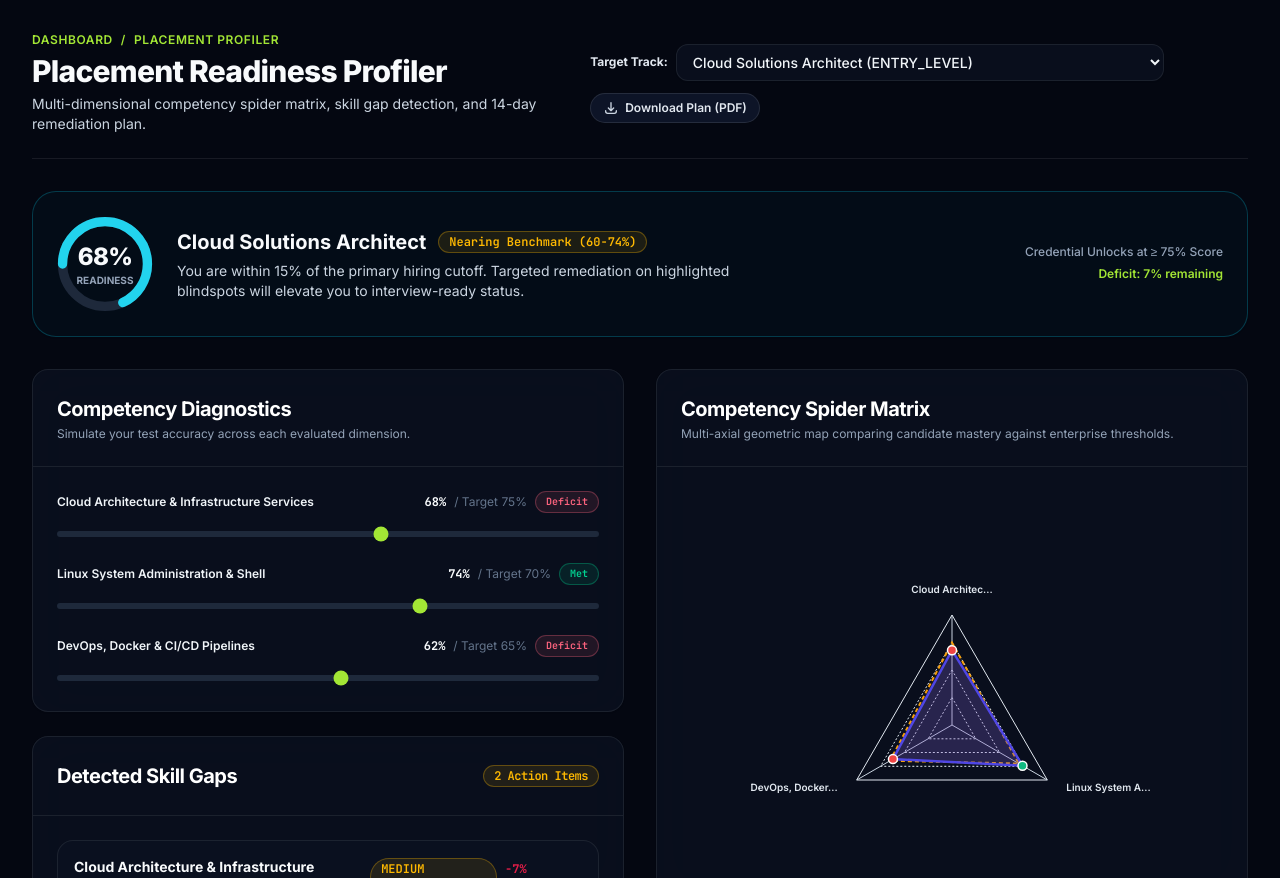
Test case: PlacementReadinessPage › allows adjusting competency slider and recalculating scores dynamically
expect the text "Reset Baseline" is not shown: met
# Change slider value to 95
Set the slider named "Accuracy slider for Cloud Architecture & Infrastructure Serv" to "95" at (558,534), box [57, 531, 599, 537]
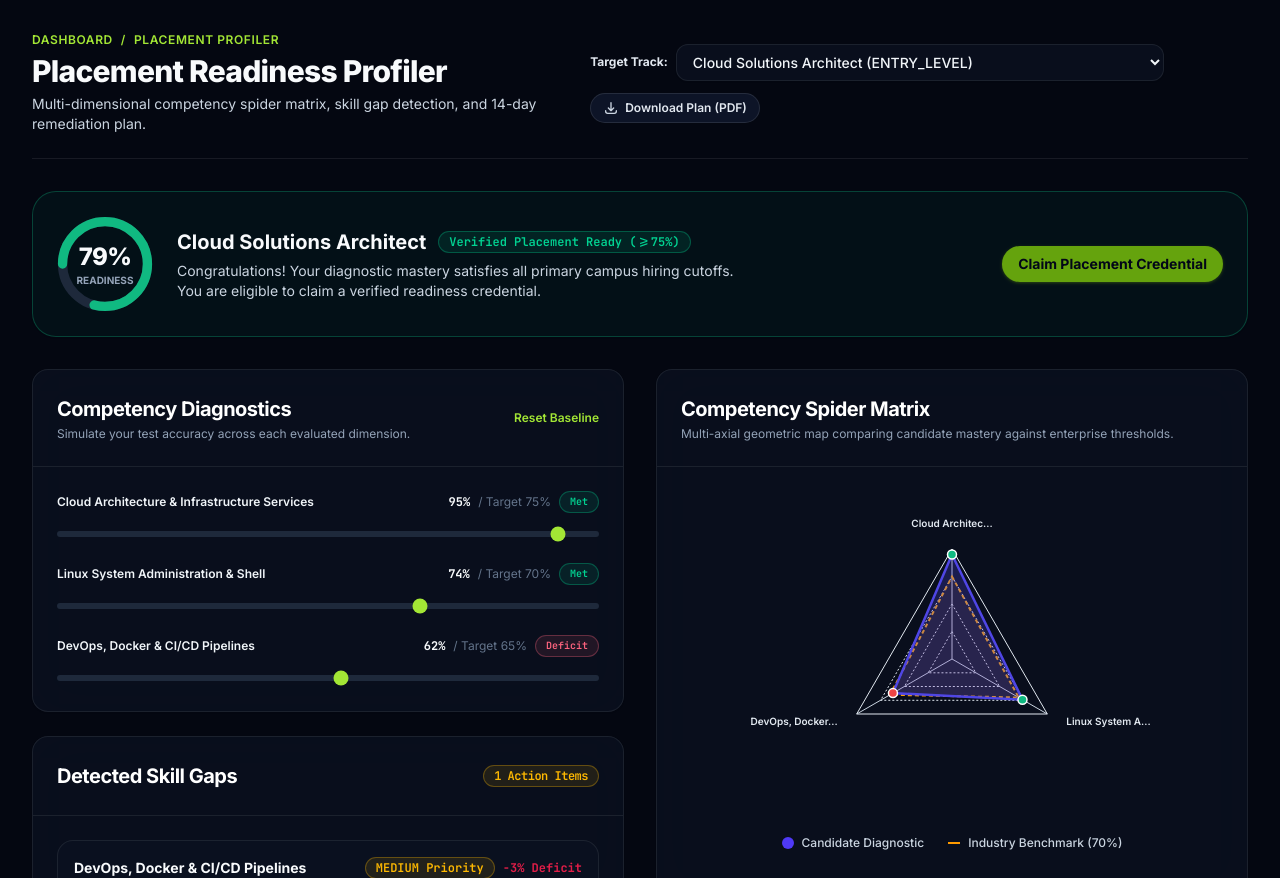
expect the button "Reset Baseline" is shown: met
# Reset back
Click the button "Reset Baseline" at (557,418), box [514, 410, 599, 426]
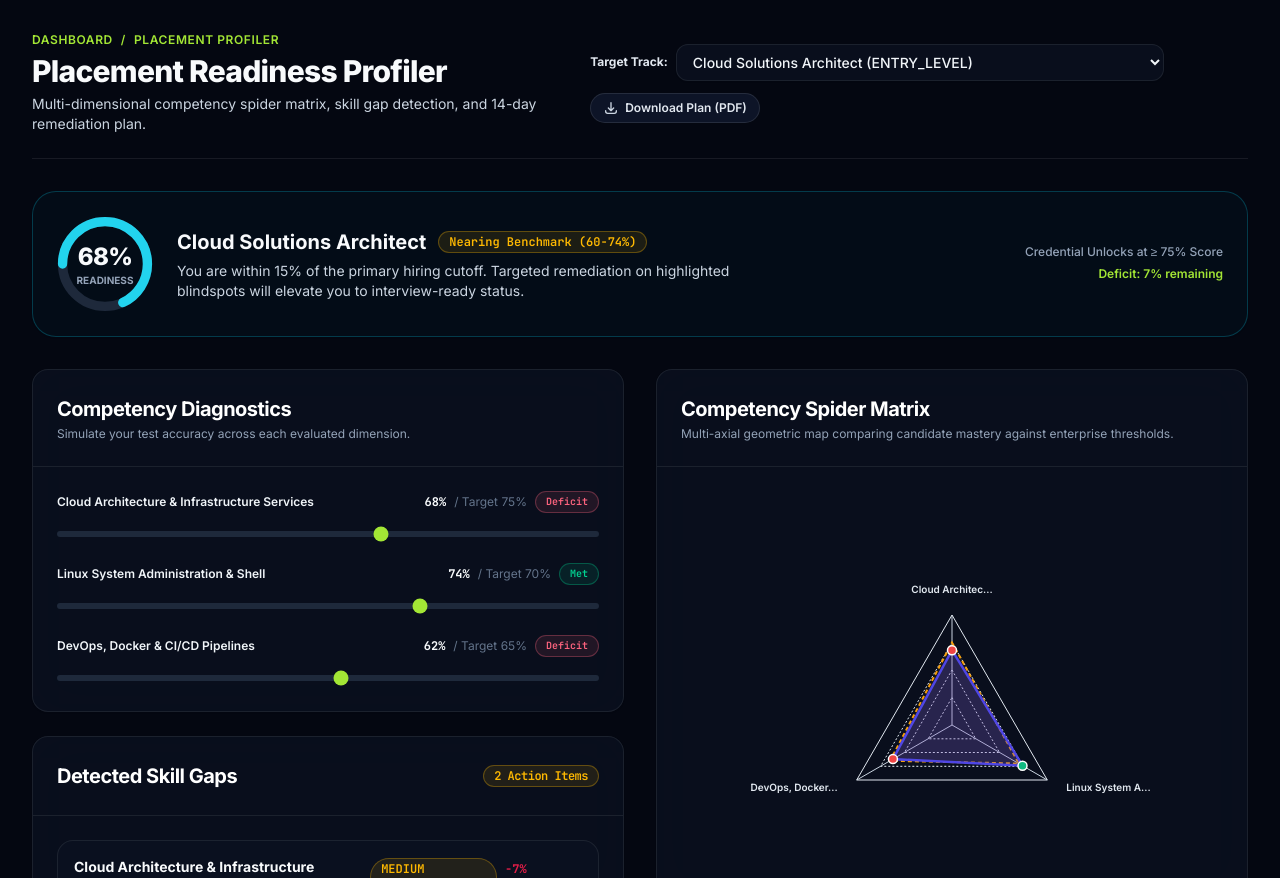
expect the button "Reset Baseline" is gone: met
